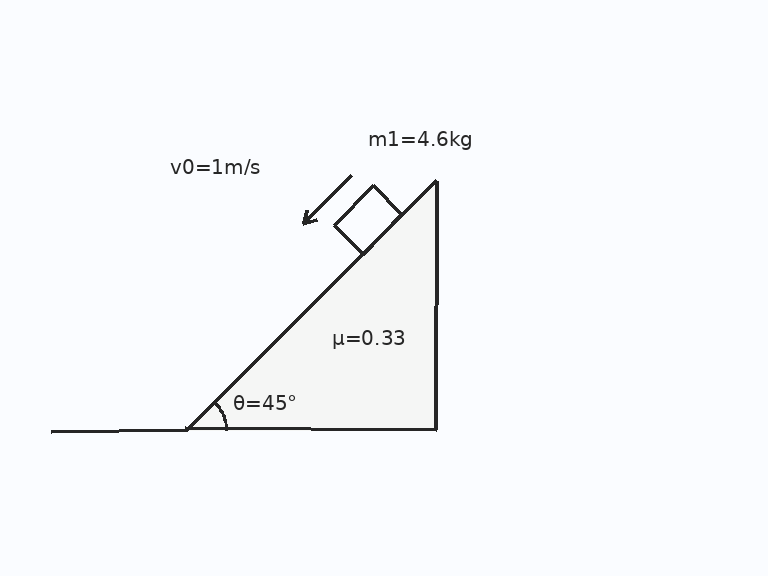block: (332, 183, 404, 255)
ramp: (184, 178, 438, 432)
